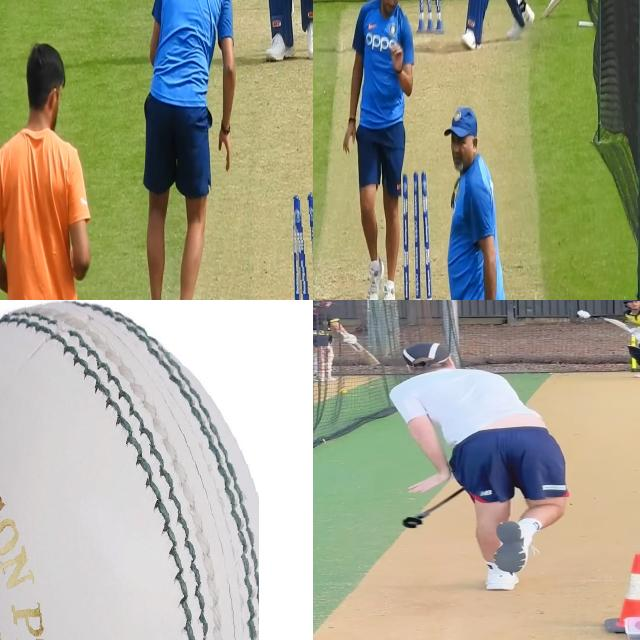Cricket ball: (0, 300, 258, 640), (574, 308, 592, 320)
Stumps: (402, 170, 434, 300), (291, 192, 313, 300), (416, 0, 443, 36)
